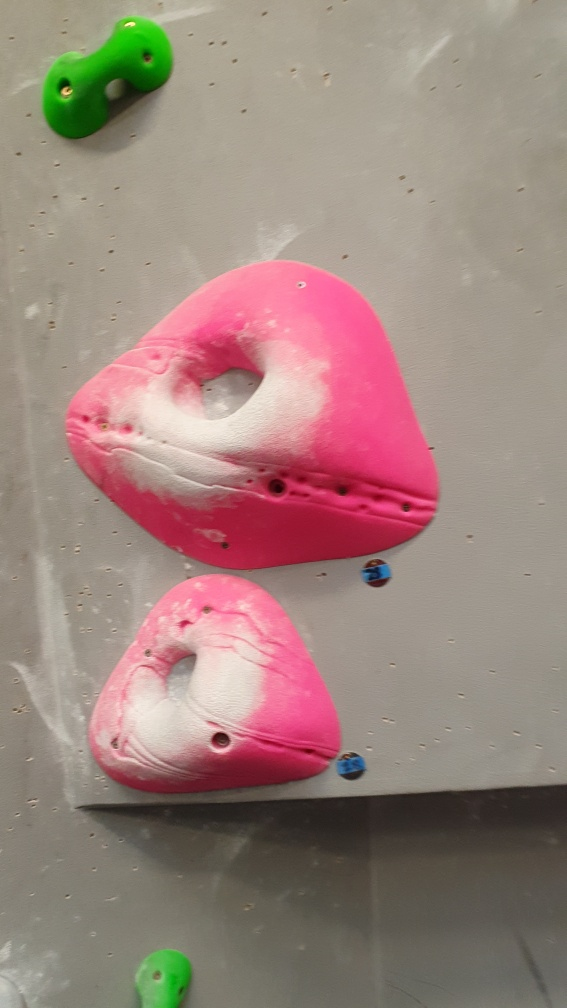Hand Start: (336, 745, 367, 785), (358, 557, 392, 590)
Pocket: (64, 255, 443, 575), (85, 575, 343, 796)
